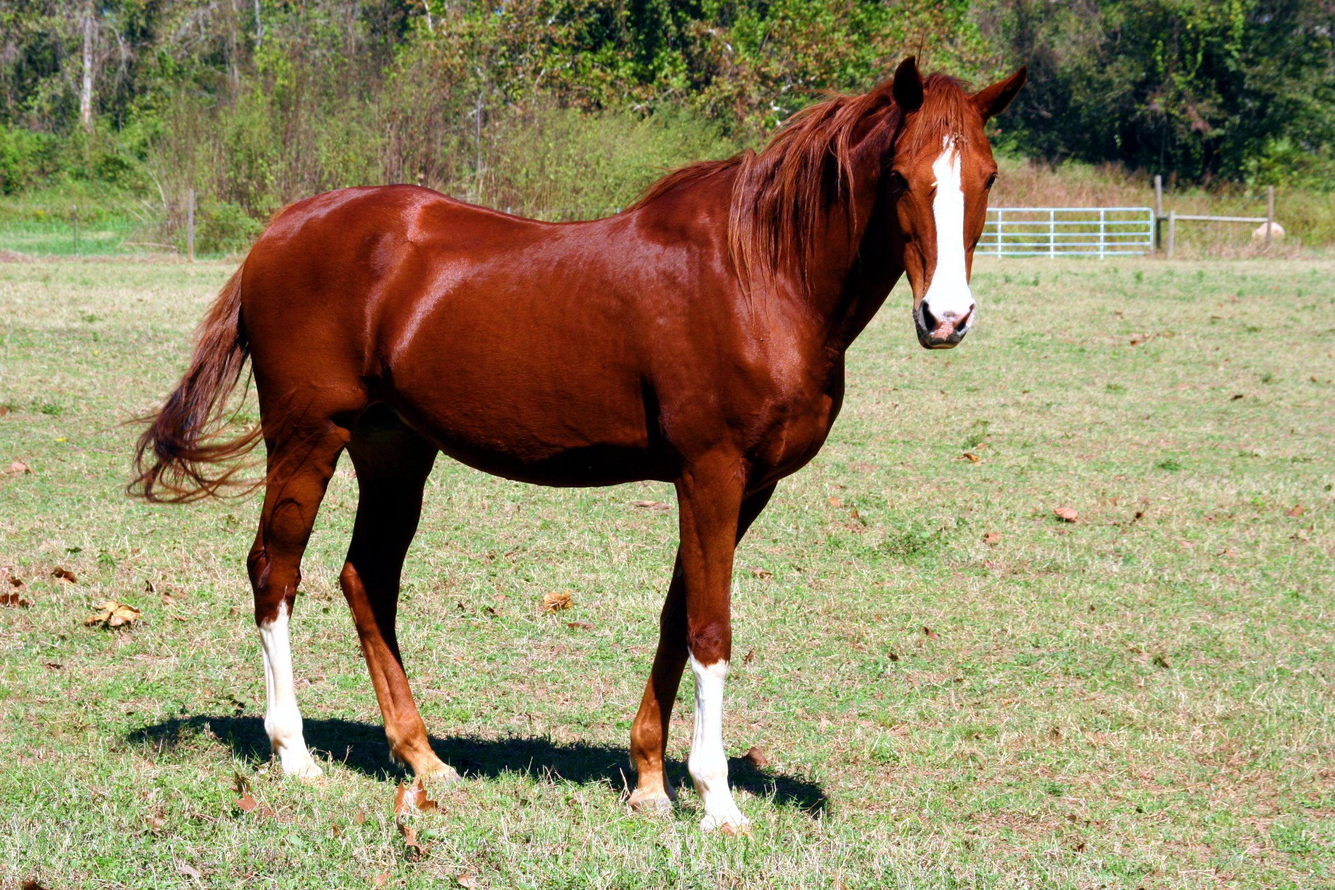horse: (118, 46, 1034, 852)
